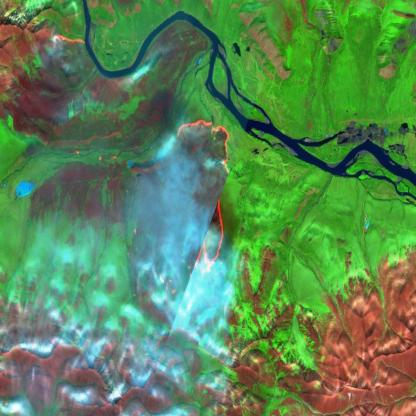fire: (156, 113, 235, 296), (46, 26, 89, 58)
